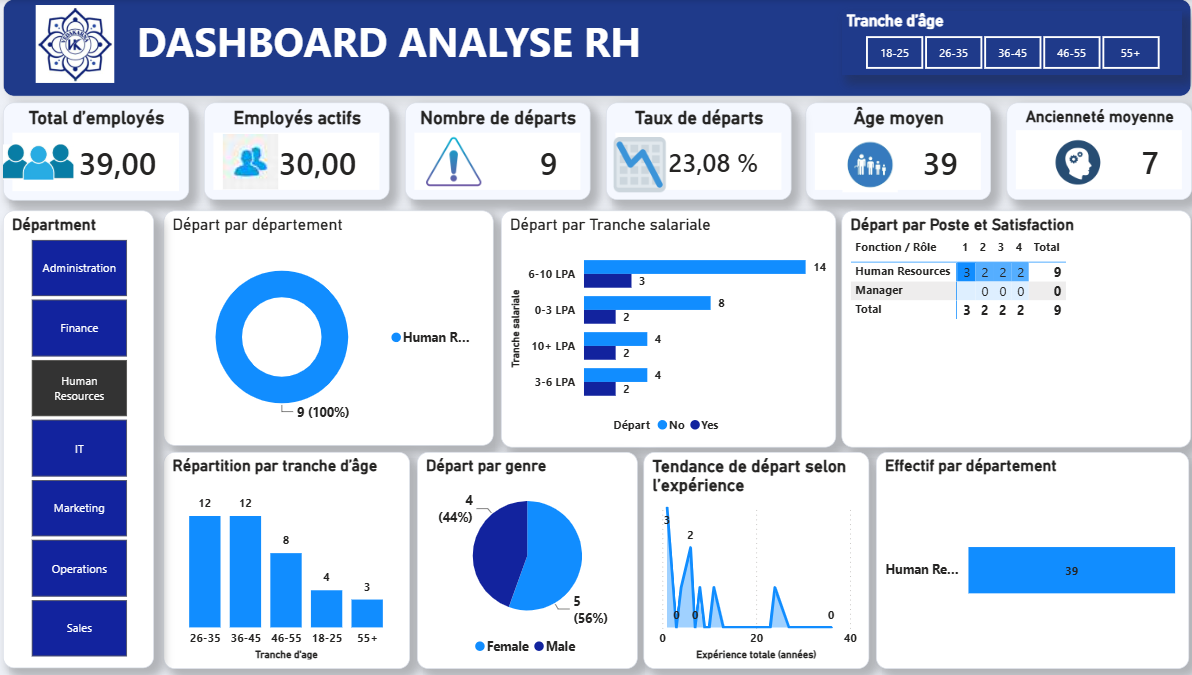

The page's visual inventory and layout, read from the dashboard file:
{"tool":"powerbi","page":{"name":"Rapport RH","canvas":[1280,720],"ordinal":0},"visuals":[{"type":"textbox","box":[9.5,0,1259.8,103.4],"z":0},{"type":"image","box":[9.5,6.4,152.7,82.7],"z":1},{"type":"cardVisual","title":"Total d’employés","fields":{"Data":["CountNonNull(Données RH.EmpID)"]},"box":[10,110,197,104],"z":2},{"type":"cardVisual","title":"Âge moyen","fields":{"Data":["Avg(Données RH.Age)"]},"box":[860.8,110,196.5,103.3],"z":3},{"type":"cardVisual","title":"Employés actifs","fields":{"Data":["CountNonNull(Données RH.Nombre d’employés)"]},"box":[223.1,110,196.5,103.3],"z":4},{"type":"cardVisual","title":"Ancienneté moyenne","fields":{"Data":["Avg(Données RH.Années dans l’entreprise)"]},"box":[1073.4,110,196.5,103.3],"z":5},{"type":"cardVisual","title":"Nombre de départs","fields":{"Data":["Sum(Données RH.Nombre de Départ)"]},"box":[435.7,110,196.5,103.3],"z":6},{"type":"cardVisual","title":"Taux de départs","fields":{"Data":["Données RH.Taux de départ"]},"box":[648.3,110,196.5,103.3],"z":7},{"type":"image","box":[885.1,145.8,89.1,58.7],"z":8},{"type":"image","box":[1095.7,141.8,107.3,62.8],"z":9},{"type":"image","box":[10.1,141.8,74.9,62.8],"z":10},{"type":"image","box":[222.8,143.8,99.2,58.7],"z":11},{"type":"image","box":[648.1,145.8,74.9,58.7],"z":12},{"type":"image","box":[449.6,143.8,74.9,58.7],"z":13},{"type":"donutChart","title":"Départ par département","fields":{"Category":["Données RH.Départment"],"Y":["Sum(Données RH.Nombre de Départ)"]},"box":[179,225,350,249],"z":14},{"type":"clusteredBarChart","title":"Départ par Tranche salariale","fields":{"Category":["Données RH.Tranche salariale"],"Series":["Données RH.Départ"],"Y":["CountNonNull(Données RH.EmpID)"]},"box":[537,225,355,251],"z":15},{"type":"pivotTable","title":"Départ par Poste et Satisfaction","fields":{"Columns":["Données RH.Satisfaction au poste"],"Rows":["Données RH.Fonction / Rôle"],"Values":["Sum(Données RH.Nombre de Départ)"]},"box":[898,225,370.6,251.1],"z":16},{"type":"columnChart","title":"Répartition par tranche d’âge","fields":{"Category":["Données RH.Tranche d'age"],"Y":["Sum(Données RH.Nombre d’employés)"]},"box":[179,480,261,230],"z":17},{"type":"pieChart","title":"Départ par genre","fields":{"Category":["Données RH.Genre"],"Y":["Sum(Données RH.Nombre de Départ)"]},"box":[448,480,234,230],"z":18},{"type":"areaChart","title":"Tendance de départ selon l’expérience","fields":{"Category":["Données RH.Expérience totale (années)"],"Y2":["Sum(Données RH.Nombre de Départ)"]},"box":[689,480,239,230],"z":19},{"type":"funnel","title":"Effectif par département","fields":{"Category":["Données RH.Départment"],"Y":["CountNonNull(Données RH.EmpID)"]},"box":[935.7,480,332.2,230],"z":20},{"type":"slicer","title":"Départment","fields":{"Values":["Données RH.Départment"]},"box":[10,225,160,485],"z":21},{"type":"slicer","title":"Tranche d’âge","fields":{"Values":["Données RH.Tranche d'age"]},"box":[898,12,361,68],"z":22}]}

Visuals, with their boxes in screenshot pixels (x1, y1, x2, y2), scaled from the page's 1280x720 canvas onto the 1192x675 screenshot:
textbox: x1=9, y1=0, x2=1182, y2=97
image: x1=9, y1=6, x2=151, y2=84
"Total d’employés" cardVisual: x1=9, y1=103, x2=193, y2=201
"Âge moyen" cardVisual: x1=802, y1=103, x2=985, y2=200
"Employés actifs" cardVisual: x1=208, y1=103, x2=391, y2=200
"Ancienneté moyenne" cardVisual: x1=1000, y1=103, x2=1183, y2=200
"Nombre de départs" cardVisual: x1=406, y1=103, x2=589, y2=200
"Taux de départs" cardVisual: x1=604, y1=103, x2=787, y2=200
image: x1=824, y1=137, x2=907, y2=192
image: x1=1020, y1=133, x2=1120, y2=192
image: x1=9, y1=133, x2=79, y2=192
image: x1=207, y1=135, x2=300, y2=190
image: x1=604, y1=137, x2=673, y2=192
image: x1=419, y1=135, x2=488, y2=190
"Départ par département" donutChart: x1=167, y1=211, x2=493, y2=444
"Départ par Tranche salariale" clusteredBarChart: x1=500, y1=211, x2=831, y2=446
"Départ par Poste et Satisfaction" pivotTable: x1=836, y1=211, x2=1181, y2=446
"Répartition par tranche d’âge" columnChart: x1=167, y1=450, x2=410, y2=666
"Départ par genre" pieChart: x1=417, y1=450, x2=635, y2=666
"Tendance de départ selon l’expérience" areaChart: x1=642, y1=450, x2=864, y2=666
"Effectif par département" funnel: x1=871, y1=450, x2=1181, y2=666
"Départment" slicer: x1=9, y1=211, x2=158, y2=666
"Tranche d’âge" slicer: x1=836, y1=11, x2=1172, y2=75
